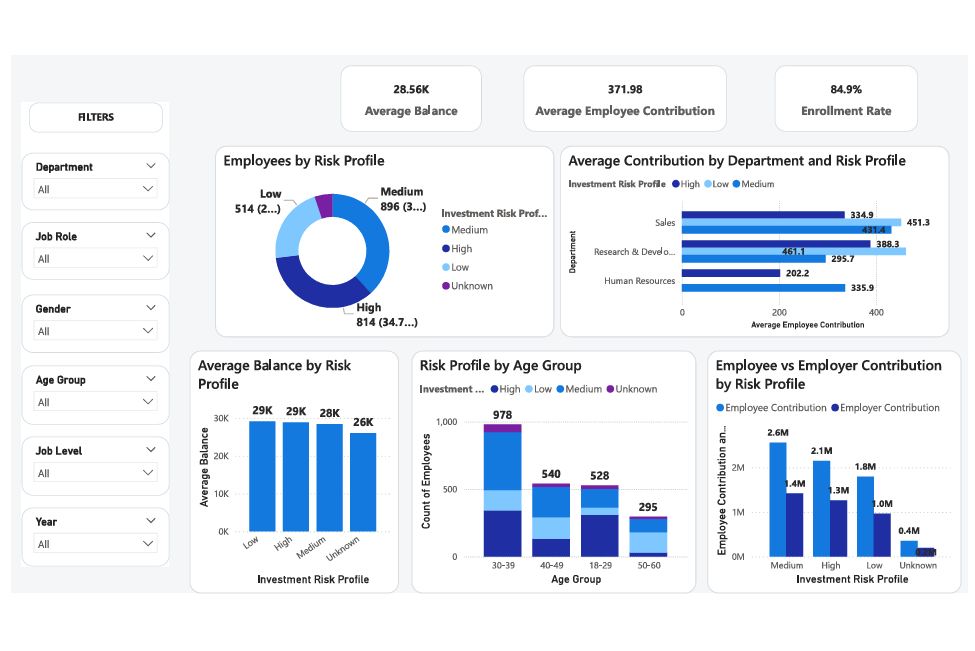

The dashboard page shown, as its layout file describes it:
{"tool":"powerbi","page":{"name":"Investment Risk & Enrollment Analysis","canvas":[1280,720],"ordinal":2},"visuals":[{"type":"card","fields":{"Values":["fact_balance_monthly.Avg Balance"]},"box":[440.2,13.2,189.1,88.5],"z":0},{"type":"textbox","box":[22.9,63.4,179.1,39.6],"z":1000,"group":"g1"},{"type":"card","fields":{"Values":["fact_contribution_monthly.Average Employee Contribution"]},"box":[685.2,13.2,271.5,88.5],"z":2000},{"type":"card","fields":{"Values":["fact_contribution_monthly.Enrollment Rate"]},"box":[1021.2,13,191.9,88.9],"z":3000},{"type":"donutChart","title":"Employees by Risk Profile","fields":{"Y":["Count(dim_employee.employee_id)"],"Category":["dim_employee.Investment Risk Profile"]},"box":[272.5,121,453.4,256.2],"z":4000},{"type":"slicer","fields":{"Values":["dim_employee.department"]},"box":[12.9,130.6,197.8,77.2],"z":5000,"group":"g1"},{"type":"clusteredColumnChart","title":"Average Balance by Risk Profile","fields":{"Y":["fact_balance_monthly.Average Balance"],"Category":["dim_employee.Investment Risk Profile"]},"box":[238.4,394.7,279.9,325.4],"z":6000},{"type":"slicer","fields":{"Values":["dim_employee.gender"]},"box":[12.9,320.5,197.8,78.1],"z":7000,"group":"g1"},{"type":"clusteredColumnChart","title":"Employee vs Employer Contribution by Risk Profile","fields":{"Y":["fact_contribution_monthly.Employee Contribution","fact_contribution_monthly.Employer Contribution"],"Category":["dim_employee.Investment Risk Profile"]},"box":[930.8,394.7,340.3,325.4],"z":8000},{"type":"slicer","fields":{"Values":["dim_employee.job_role"]},"box":[12.9,223.6,197.8,77.2],"z":9000,"group":"g1"},{"type":"clusteredBarChart","title":"Average Contribution by Department and Risk Profile","fields":{"Category":["dim_employee.Department"],"Series":["dim_employee.Investment Risk Profile"],"Y":["fact_contribution_monthly.Average Employee Contribution"]},"box":[734,121,520.5,256.2],"z":10000},{"type":"columnChart","title":"Risk Profile by Age Group","fields":{"Category":["dim_employee.Age Group"],"Y":["Count(dim_employee.employee_id)"],"Series":["dim_employee.Investment Risk Profile"]},"box":[535.1,394.7,380.8,325.4],"z":11000},{"type":"slicer","fields":{"Values":["dim_employee.Age Group"]},"box":[12.9,415.5,197.8,79.1],"z":12000,"group":"g1"},{"type":"slicer","fields":{"Values":["dim_employee.Job Level"]},"box":[12.9,510.4,197.8,79.1],"z":13000,"group":"g1"},{"type":"slicer","fields":{"Values":["dim_date.year_num"]},"box":[12.9,605.4,197.8,79.1],"z":14000,"group":"g1"},{"type":"group","id":"g1","title":"Group 1","box":[12.9,63.4,197.8,621.1],"z":14001}]}

Visuals, with their boxes on the page's 1280x720 design canvas (x1, y1, x2, y2). These are canvas units, not pixel positions in the 975x651 screenshot, which may show the page scaled, cropped or inside an application window:
card - fact_balance_monthly.Avg Balance: x1=440 y1=13 x2=629 y2=102
textbox: x1=23 y1=63 x2=202 y2=103
card - fact_contribution_monthly.Average Employee Contribution: x1=685 y1=13 x2=957 y2=102
card - fact_contribution_monthly.Enrollment Rate: x1=1021 y1=13 x2=1213 y2=102
"Employees by Risk Profile" donutChart: x1=272 y1=121 x2=726 y2=377
slicer - dim_employee.department: x1=13 y1=131 x2=211 y2=208
"Average Balance by Risk Profile" clusteredColumnChart: x1=238 y1=395 x2=518 y2=720
slicer - dim_employee.gender: x1=13 y1=320 x2=211 y2=399
"Employee vs Employer Contribution by Risk Profile" clusteredColumnChart: x1=931 y1=395 x2=1271 y2=720
slicer - dim_employee.job_role: x1=13 y1=224 x2=211 y2=301
"Average Contribution by Department and Risk Profile" clusteredBarChart: x1=734 y1=121 x2=1254 y2=377
"Risk Profile by Age Group" columnChart: x1=535 y1=395 x2=916 y2=720
slicer - dim_employee.Age Group: x1=13 y1=416 x2=211 y2=495
slicer - dim_employee.Job Level: x1=13 y1=510 x2=211 y2=590
slicer - dim_date.year_num: x1=13 y1=605 x2=211 y2=684
"Group 1" group: x1=13 y1=63 x2=211 y2=684
